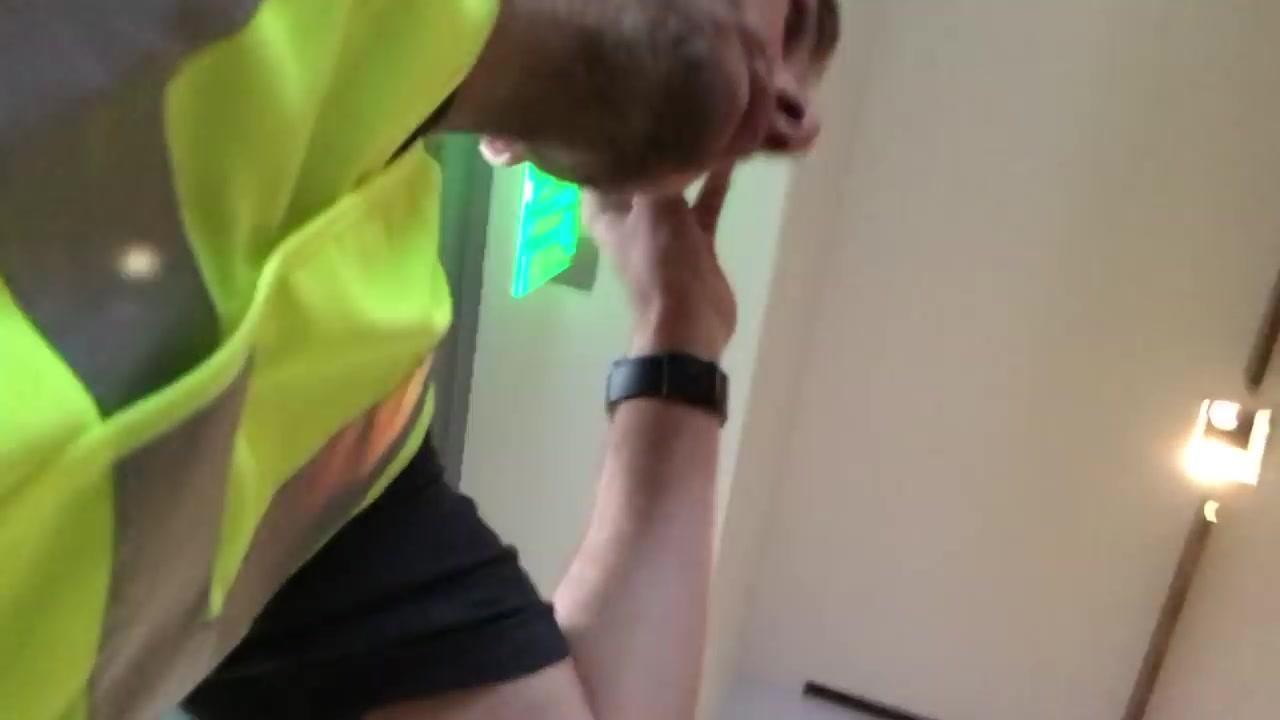vest: (0, 1, 501, 719)
